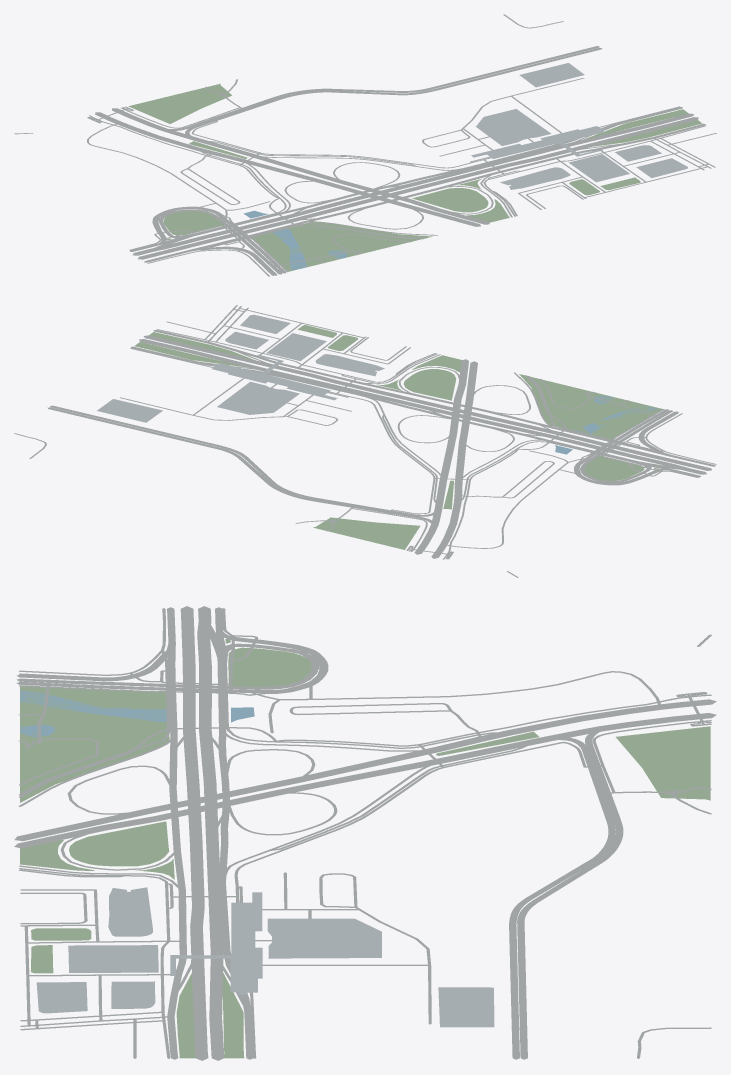
File: 9_4-known-fine.glb
The picture shows the model from 3 angles, top to bottom: view 1: azimuth 30°, elevation 25°; view 2: azimuth 150°, elevation 25°; view 3: azimuth 270°, elevation 25°; orthographic projection. The views are drawn at different scales.
Bounding box in the file's own units: 1012 × 0.15 × 661.
